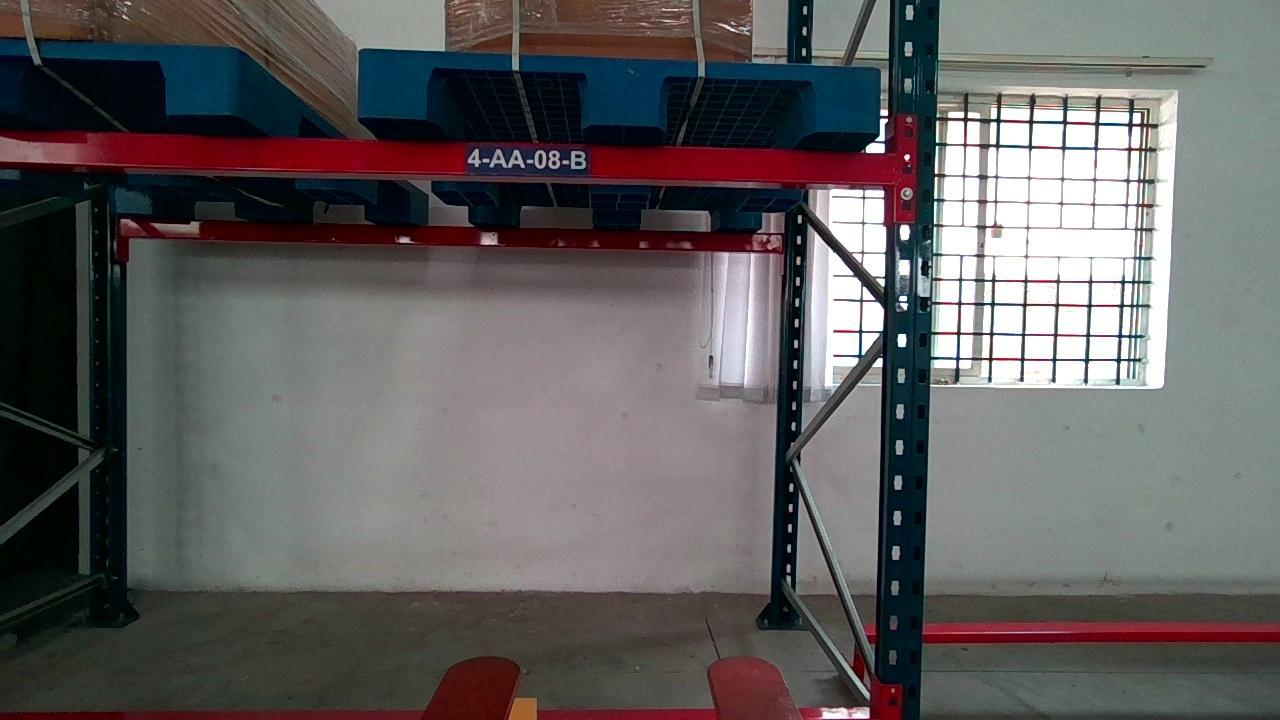h_rack: (0, 126, 894, 185)
small_pallet: (358, 48, 879, 133)
